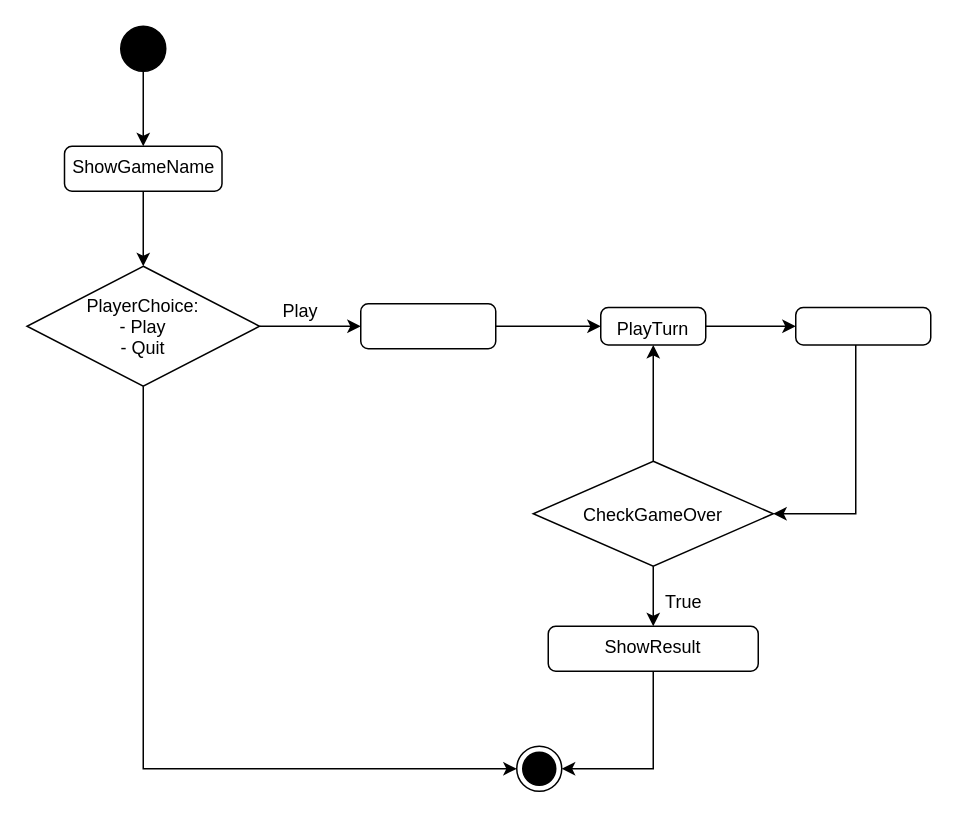
Image size: 957x818. Some labels were removed from this diagram. Here are the shapes that lost their labels. From the top down, the centre of each, then its label:
At point 427,325: "SetUpBoard".
At point 862,325: "UpdateBoard".
